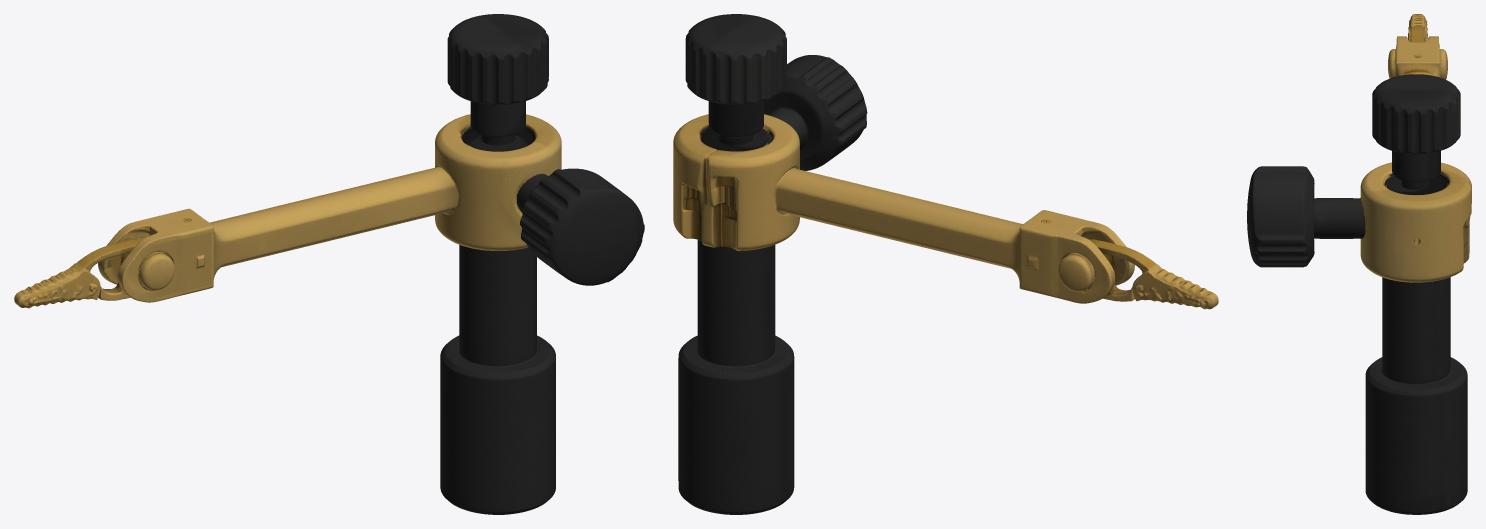
Rendered from 寶石夾.glb.
3 views of the same model, side by side, from view 1: azimuth 30°, elevation 25°; view 2: azimuth 150°, elevation 25°; view 3: azimuth 270°, elevation 25° (orthographic). The views are drawn at different scales.
Parts seen in each view (by area): view 1: Mesh_0.001; view 2: Mesh_0.001; view 3: Mesh_0.001.
Part boxes in pixels (x1,y1,x2,y2): Mesh_0.001: [14, 14, 644, 514]; Mesh_0.001: [673, 14, 1218, 514]; Mesh_0.001: [1247, 14, 1471, 514].
Bounding box in the file's own units: 0.1221 × 0.1 × 0.0501.
1 material, 1 textured.
